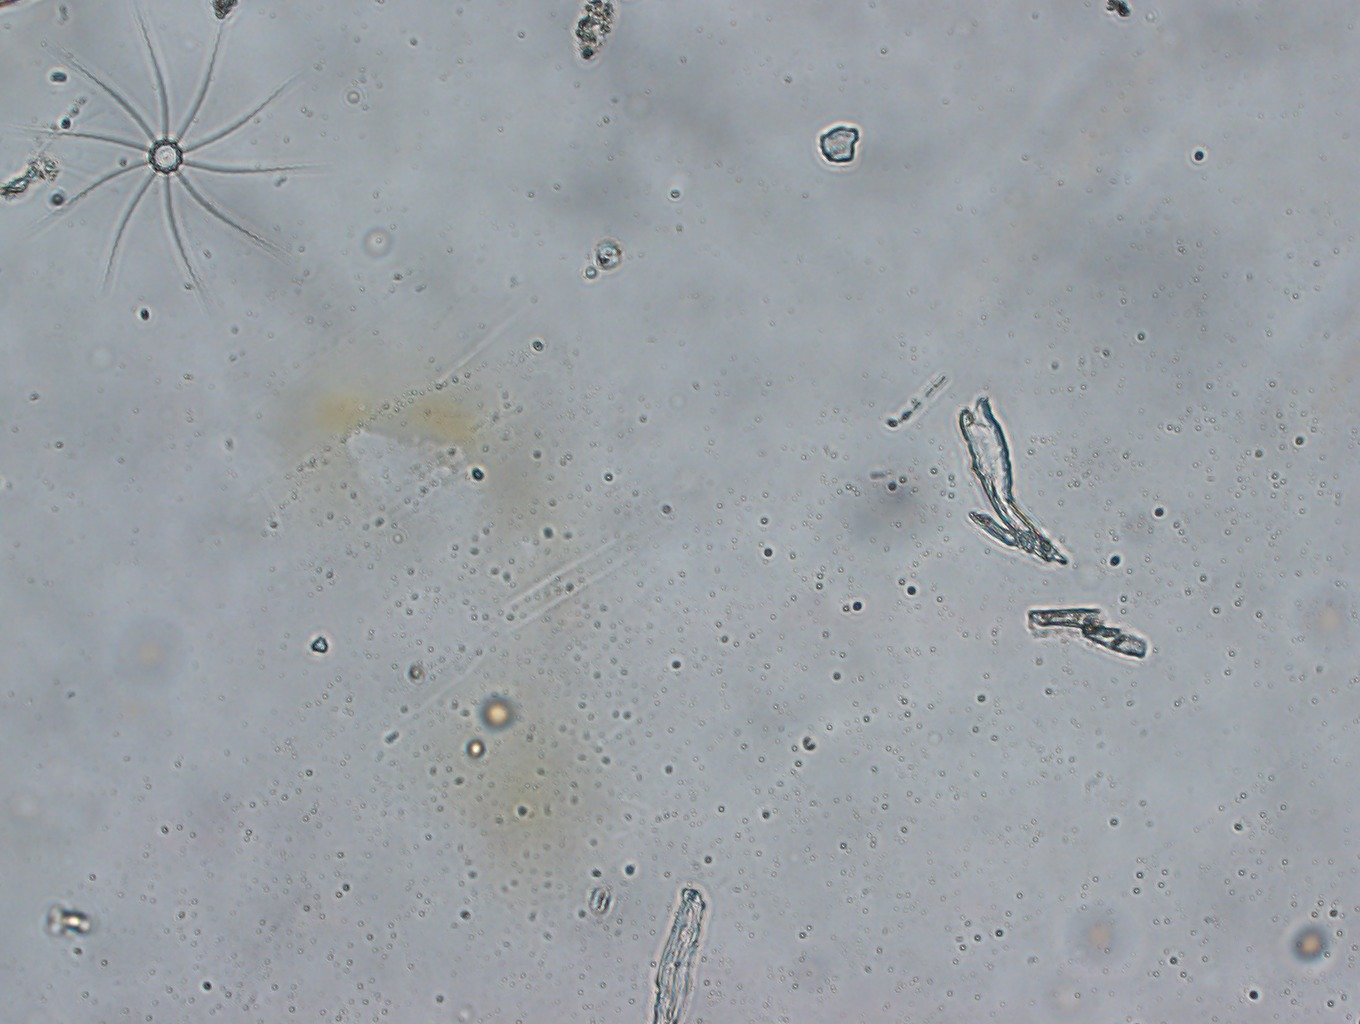bacteriastrum: (24, 1, 321, 305)
